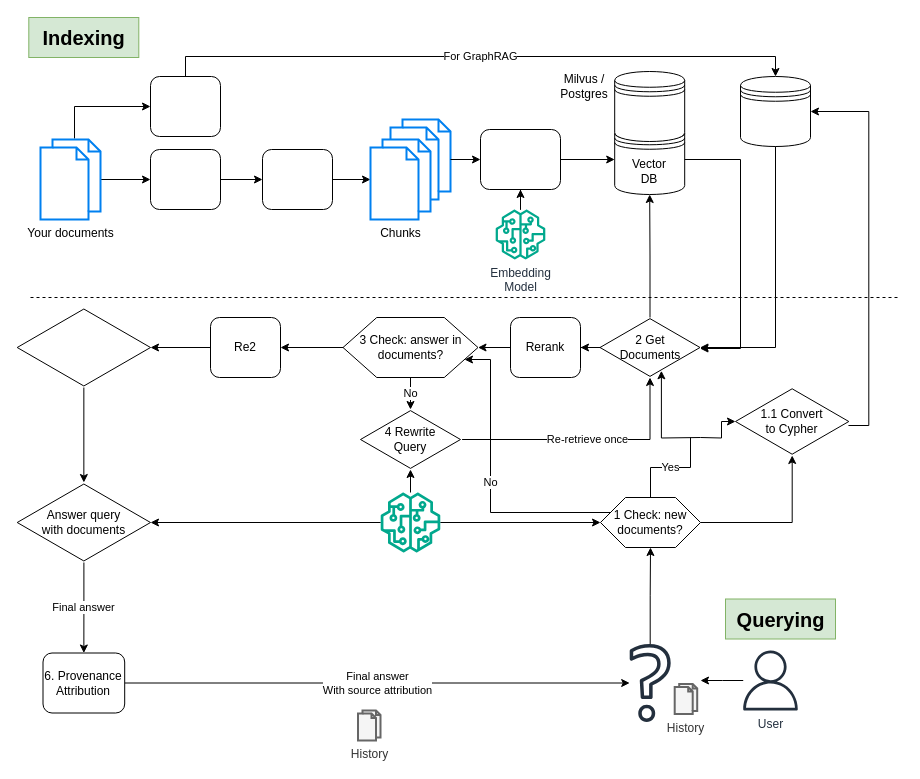
Image size: 920x779. Some labels were removed from this diagram. Each missing label, with the centre of its shape:
"5 Inject documents into prompt" goes at (x=83, y=347).
"Chat LLM" goes at (x=410, y=522).
"Chunking" goes at (x=297, y=179).
"Document Embeddings" goes at (x=520, y=159).
"Entity Extraction" goes at (x=185, y=106).
"Loaders" goes at (x=185, y=179).
"Neo4J" goes at (x=775, y=111).
"Query" goes at (x=649, y=683).
"Sparse BM25" goes at (x=649, y=106).
